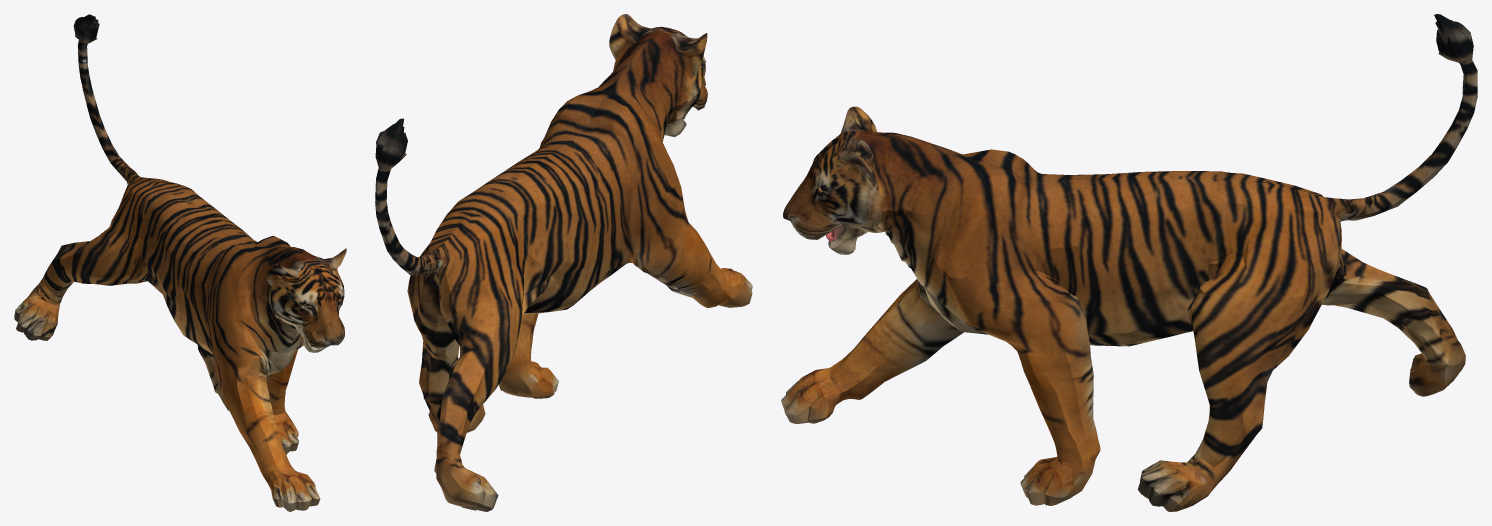
File: tiger.obj
3 views of the same model, side by side, from view 1: azimuth 30°, elevation 25°; view 2: azimuth 150°, elevation 25°; view 3: azimuth 270°, elevation 25° (orthographic). The views are drawn at different scales.
Parts seen in each view (by area): view 1: object0, object11, object2, object13, object8, object7, object4, object6, object20, object3; view 2: object0, object2, object3, object19, object21, object5, object11, object1, object6, object20, object13; view 3: object2, object7, object11, object0, object1, object12, object8, object6, object3, object13, object18, object21 (+1 smaller).
Part boxes in pixels (x1,y1,x2,y2): object0: [36, 15, 309, 479]; object11: [267, 249, 346, 348]; object2: [83, 14, 346, 413]; object13: [15, 295, 61, 337]; object8: [265, 468, 320, 503]; object7: [259, 357, 294, 469]; object4: [258, 346, 300, 375]; object6: [273, 410, 298, 447]; object20: [265, 477, 320, 511]; object3: [197, 345, 220, 396]; object0: [377, 32, 729, 468]; object2: [375, 14, 663, 431]; object3: [416, 271, 459, 413]; object19: [434, 461, 498, 511]; object21: [498, 358, 558, 398]; object5: [512, 313, 538, 365]; object11: [655, 26, 707, 110]; object1: [432, 270, 463, 470]; object6: [528, 361, 558, 393]; object20: [718, 284, 752, 307]; object13: [461, 467, 497, 495]; object2: [839, 14, 1477, 490]; object7: [832, 280, 963, 400]; object11: [783, 130, 876, 239]; object0: [832, 20, 1473, 375]; object1: [1322, 231, 1449, 365]; object12: [1141, 460, 1204, 506]; object8: [781, 365, 836, 419]; object6: [1020, 457, 1083, 497]; object3: [1188, 224, 1340, 465]; object13: [1409, 353, 1445, 391]; object18: [1137, 471, 1211, 511]; object21: [1021, 434, 1100, 505].
Size of the model in its own units: 166 by 362 by 500.
1 material, 1 textured.
